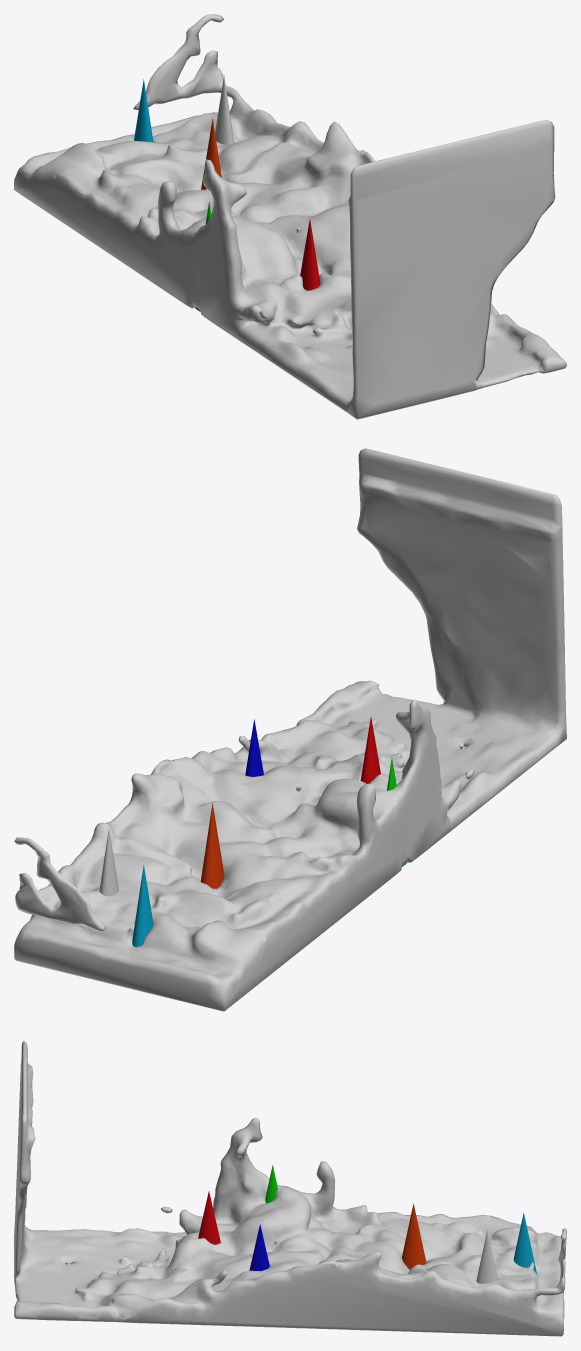
3 renders of one model, top to bottom at view 1: azimuth 30°, elevation 25°; view 2: azimuth 150°, elevation 25°; view 3: azimuth 270°, elevation 25°, orthographic. The views are drawn at different scales.
Visible parts, largest first — view 1: Liquid_Domain, 円錐.001, 円錐, 円錐.005; view 2: Liquid_Domain, 円錐.004, 円錐.005, 円錐, 円錐.001; view 3: Liquid_Domain, 円錐.004, 円錐.005, 円錐, 円錐.001, 円錐.002.
Part boxes in pixels (<box>): Liquid_Domain: <box>14,14,566,419</box>; 円錐.001: <box>300,219,319,290</box>; 円錐: <box>215,76,234,144</box>; 円錐.005: <box>134,79,153,142</box>; Liquid_Domain: <box>14,448,566,1011</box>; 円錐.004: <box>200,803,224,888</box>; 円錐.005: <box>132,865,152,947</box>; 円錐: <box>99,829,118,896</box>; 円錐.001: <box>360,717,380,783</box>; Liquid_Domain: <box>14,1041,566,1336</box>; 円錐.004: <box>402,1203,426,1269</box>; 円錐.005: <box>513,1212,536,1273</box>; 円錐: <box>476,1230,497,1283</box>; 円錐.001: <box>198,1191,220,1244</box>; 円錐.002: <box>249,1224,269,1270</box>.
Size of the model in its own units: 129 by 158 by 363.
